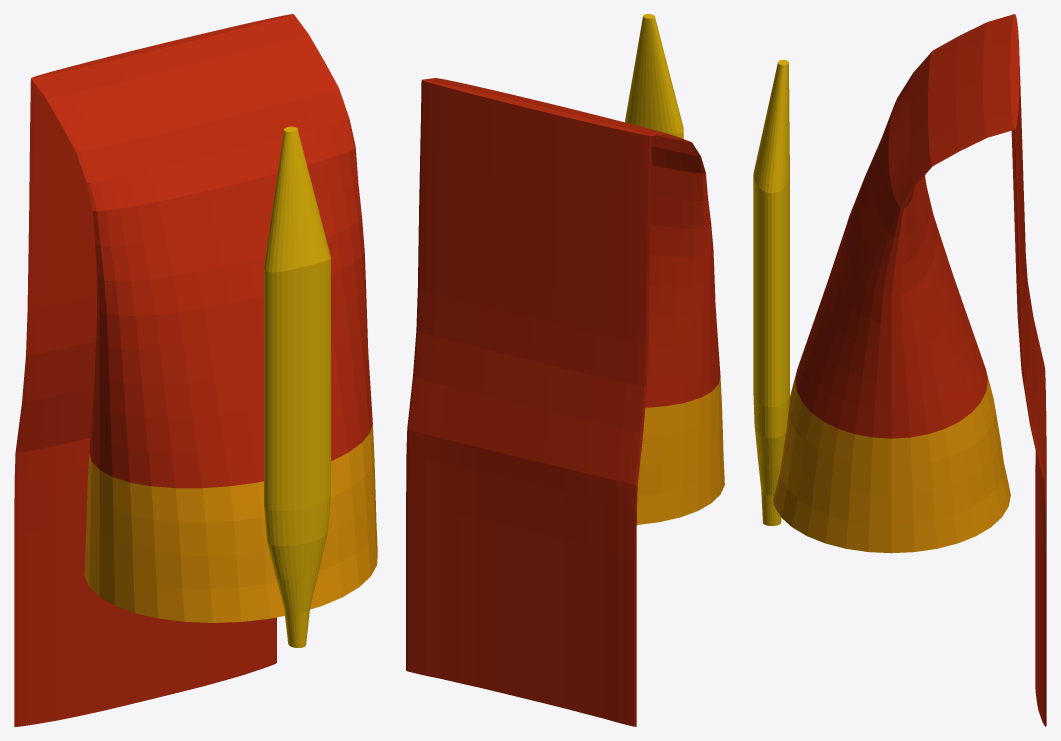
Rendered from yeniçeri.fbx.
3 views of the same model, side by side, from view 1: azimuth 30°, elevation 25°; view 2: azimuth 150°, elevation 25°; view 3: azimuth 270°, elevation 25° (orthographic). The views are drawn at different scales.
Parts seen in each view (by area): view 1: Circle, Cylinder; view 2: Circle, Cylinder; view 3: Circle, Cylinder.
Part boxes in pixels (<box>): Circle: <box>14,14,377,726</box>; Cylinder: <box>264,126,330,647</box>; Circle: <box>406,78,724,726</box>; Cylinder: <box>625,14,683,138</box>; Circle: <box>773,14,1046,726</box>; Cylinder: <box>753,59,789,525</box>.
Size of the model in its own units: 201 by 489 by 214.
